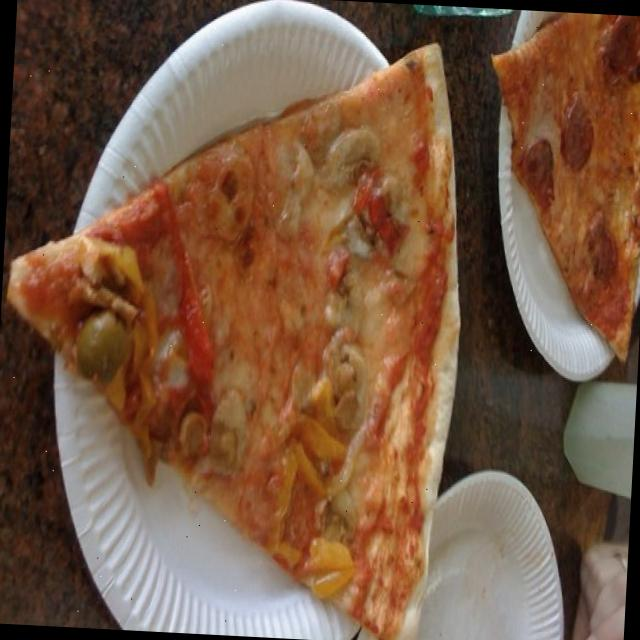Bell Pepper: (262, 414, 342, 554), (119, 284, 169, 450), (300, 524, 360, 606), (69, 226, 143, 278)
Olive: (64, 291, 141, 398), (324, 356, 369, 430), (201, 412, 245, 474)
pepperoni: (574, 204, 630, 294), (509, 132, 564, 218), (558, 90, 599, 178), (596, 14, 640, 93)
pizza: (8, 48, 458, 638), (492, 15, 640, 357)
